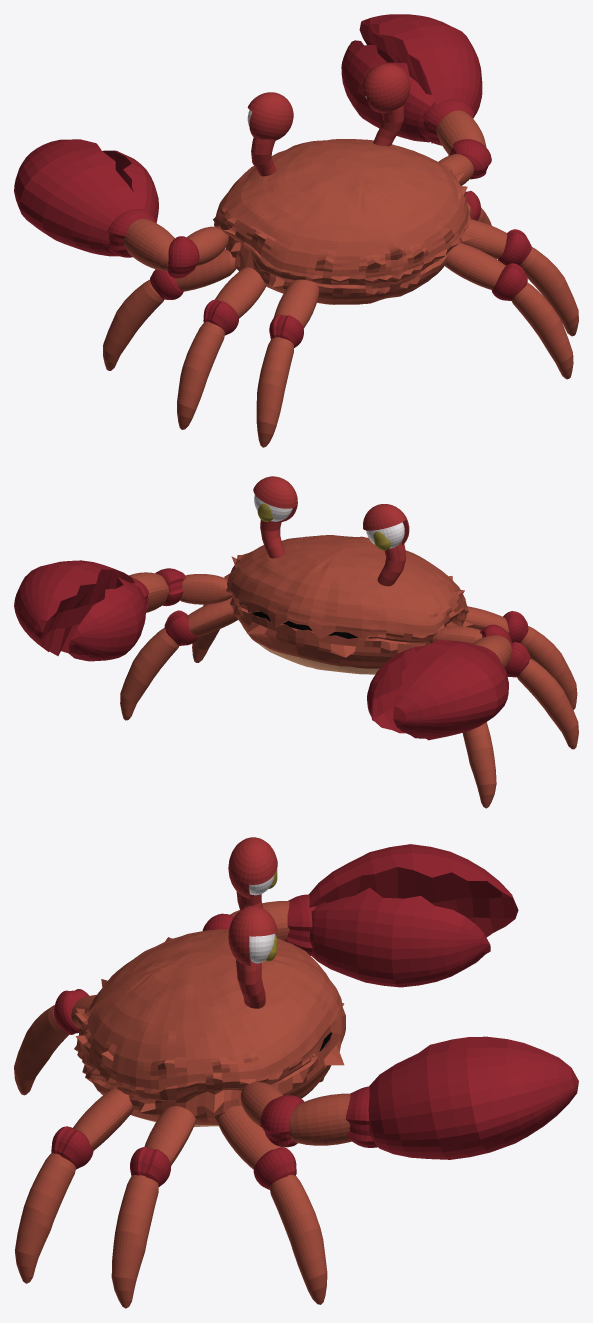
Rendered from crabFinished.fbx.
3 views of the same model, one above another, from view 1: azimuth 30°, elevation 25°; view 2: azimuth 150°, elevation 25°; view 3: azimuth 270°, elevation 25° (orthographic). The views are drawn at different scales.
Visible parts, largest first — view 1: crabBody; view 2: crabBody; view 3: crabBody.
Part boxes in pixels (<box>): crabBody: <box>14,14,578,447</box>; crabBody: <box>14,476,578,808</box>; crabBody: <box>14,837,578,1308</box>.
Size of the model in its own units: 725 by 616 by 388.
